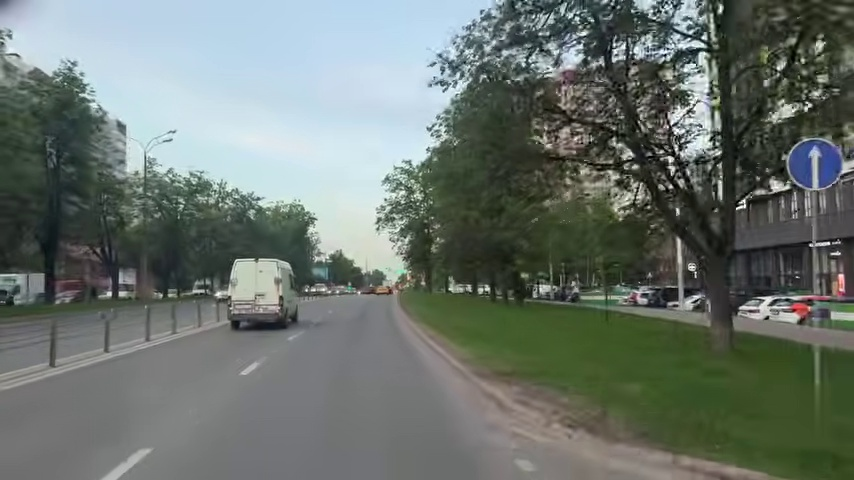apagada: (158, 129, 179, 147)
